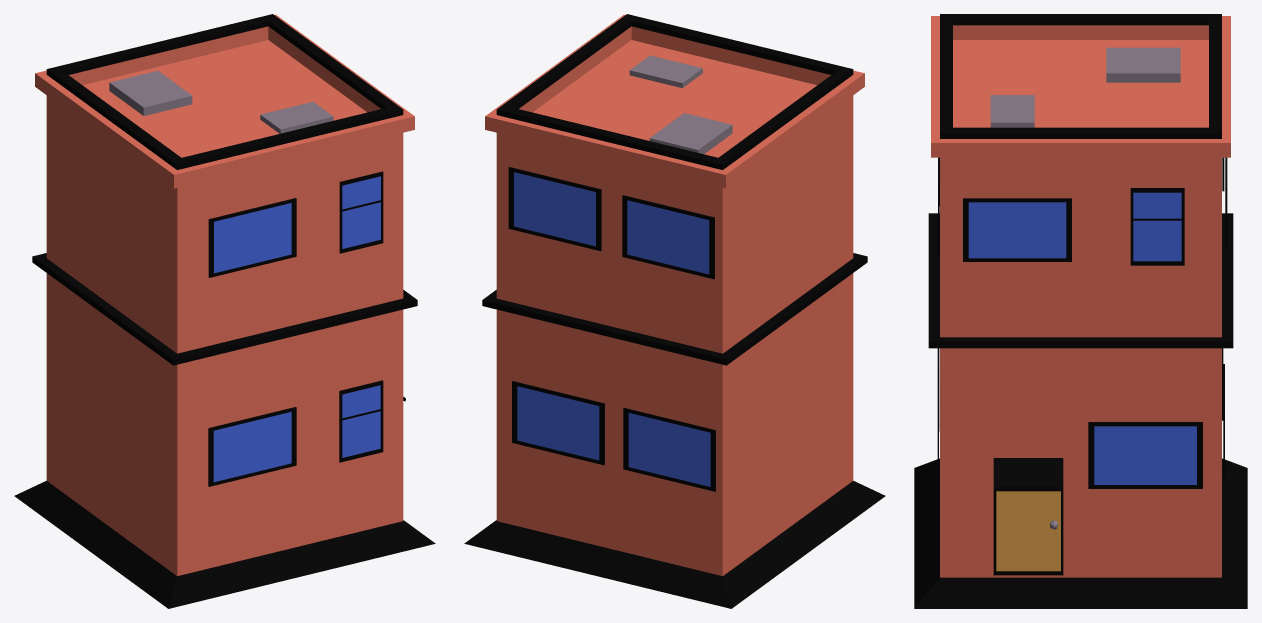
File: bina.fbx
3 renders of one model, left to right at view 1: azimuth 30°, elevation 25°; view 2: azimuth 150°, elevation 25°; view 3: azimuth 270°, elevation 25°, orthographic. The views are drawn at different scales.
Parts seen in each view (by area): view 1: Cube; view 2: Cube; view 3: Cube.
Boxes of the visible parts, <box> form: Cube: <box>14,14,435,608</box>; Cube: <box>464,14,885,608</box>; Cube: <box>914,14,1247,608</box>.
Size of the model in its own units: 684 by 1023 by 665.
